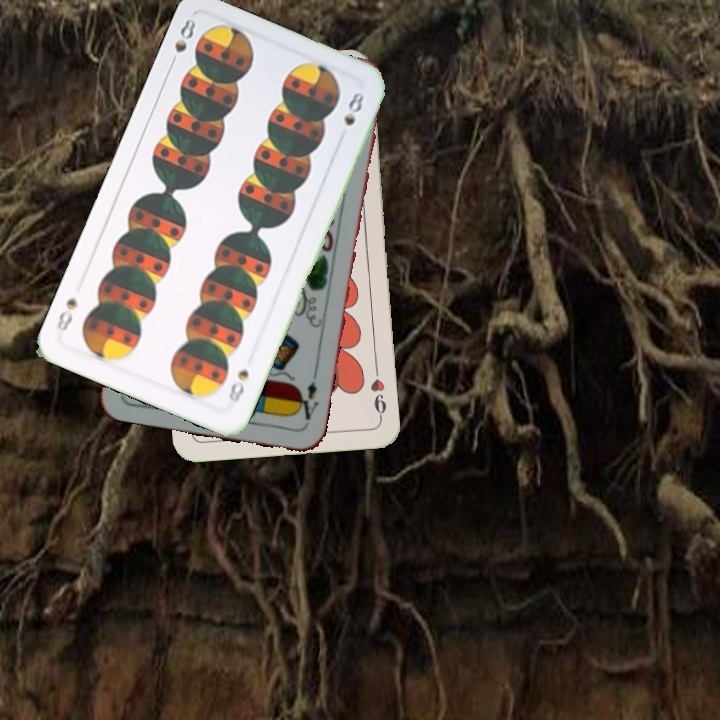EA: (292, 377, 322, 428)
H9: (366, 363, 389, 422)
S8: (165, 14, 199, 70), (224, 365, 252, 407)
